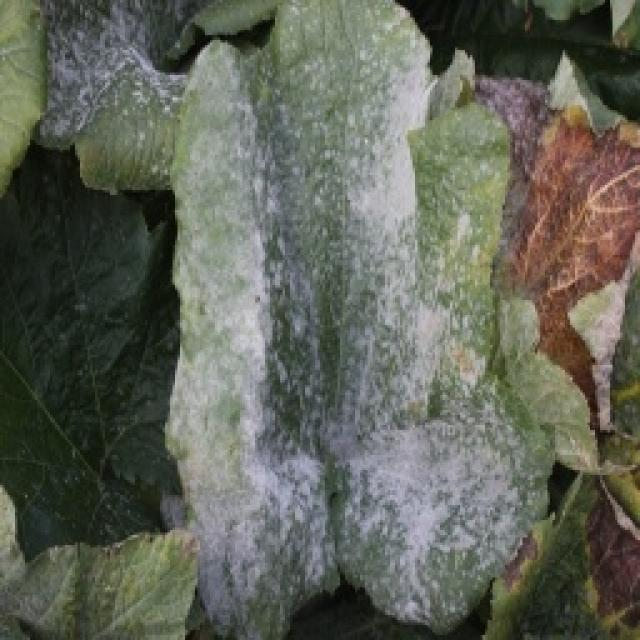Powdery Mildew: (33, 0, 533, 585)
